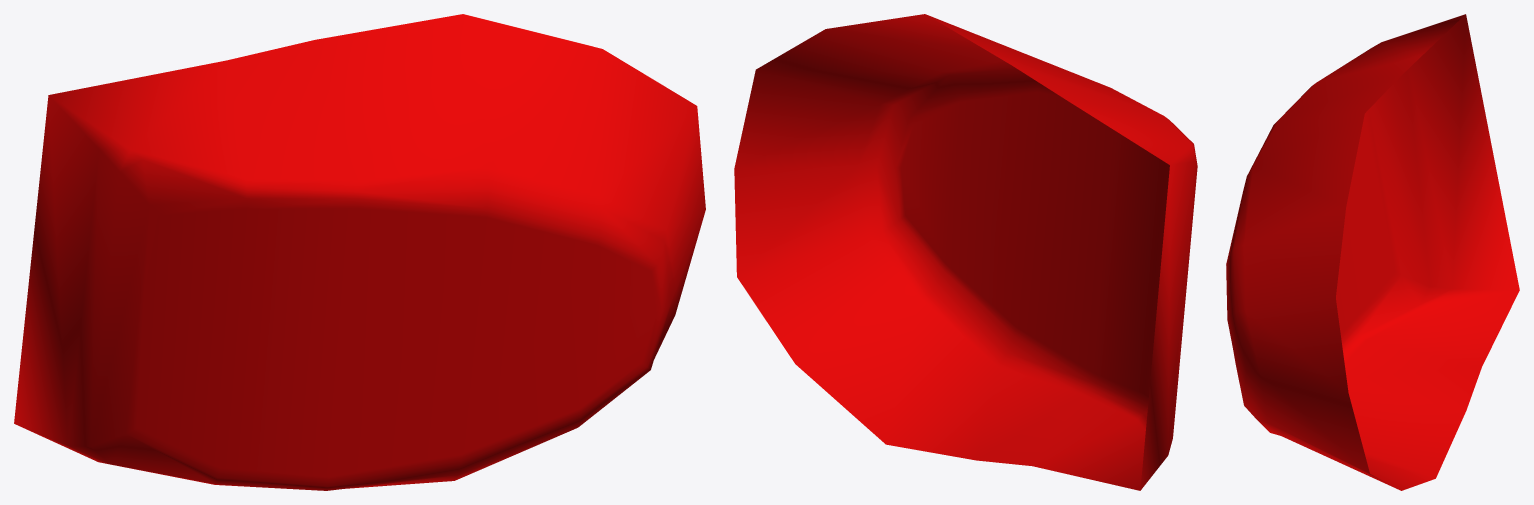
The model's file is rafale_highlight_04_OSF2.fbx.
3 renders of one model, left to right at view 1: azimuth 30°, elevation 25°; view 2: azimuth 150°, elevation 25°; view 3: azimuth 270°, elevation 25°, orthographic. The views are drawn at different scales.
Visible parts, largest first — view 1: rafale_highlight_04_OSF2; view 2: rafale_highlight_04_OSF2; view 3: rafale_highlight_04_OSF2.
Boxes of the visible parts, x1,y1,x2,y2 form: rafale_highlight_04_OSF2: [14, 14, 705, 490]; rafale_highlight_04_OSF2: [734, 14, 1197, 490]; rafale_highlight_04_OSF2: [1226, 14, 1519, 490].
Bounding box in the file's own units: 9.71 × 7.45 × 5.43.
